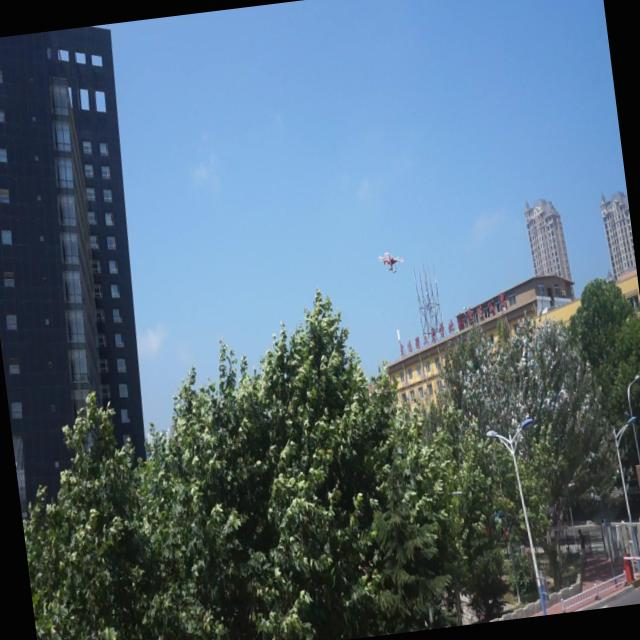drone: (374, 244, 406, 278)
